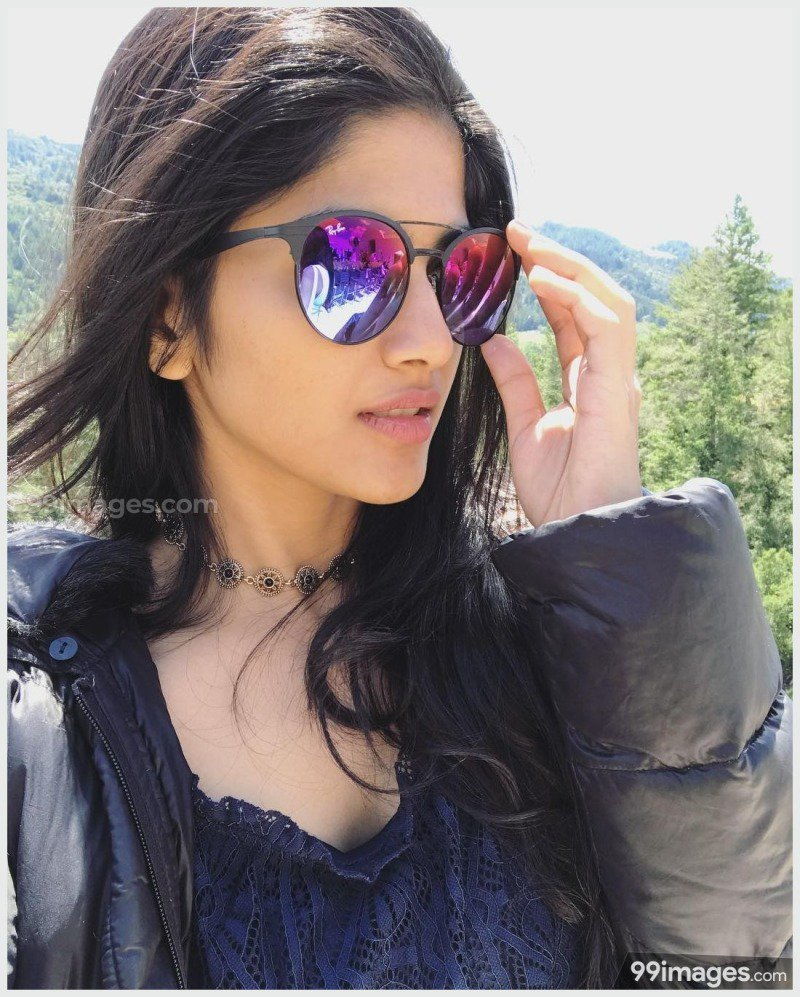noMask: (79, 26, 529, 516)
